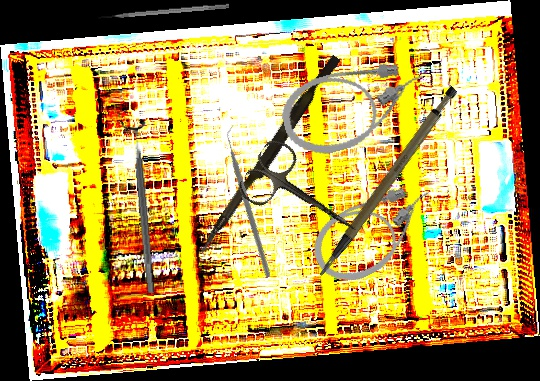Cannula: (300, 171, 451, 295), (274, 51, 437, 163)
Chopper: (171, 122, 331, 279)
Fixation Ring: (119, 118, 165, 295)
Hook Surgical: (97, 2, 230, 20)
Iris Scissors: (234, 134, 374, 260)
Pusher: (198, 51, 341, 259)
Scalpel Handle: (290, 82, 481, 278)
